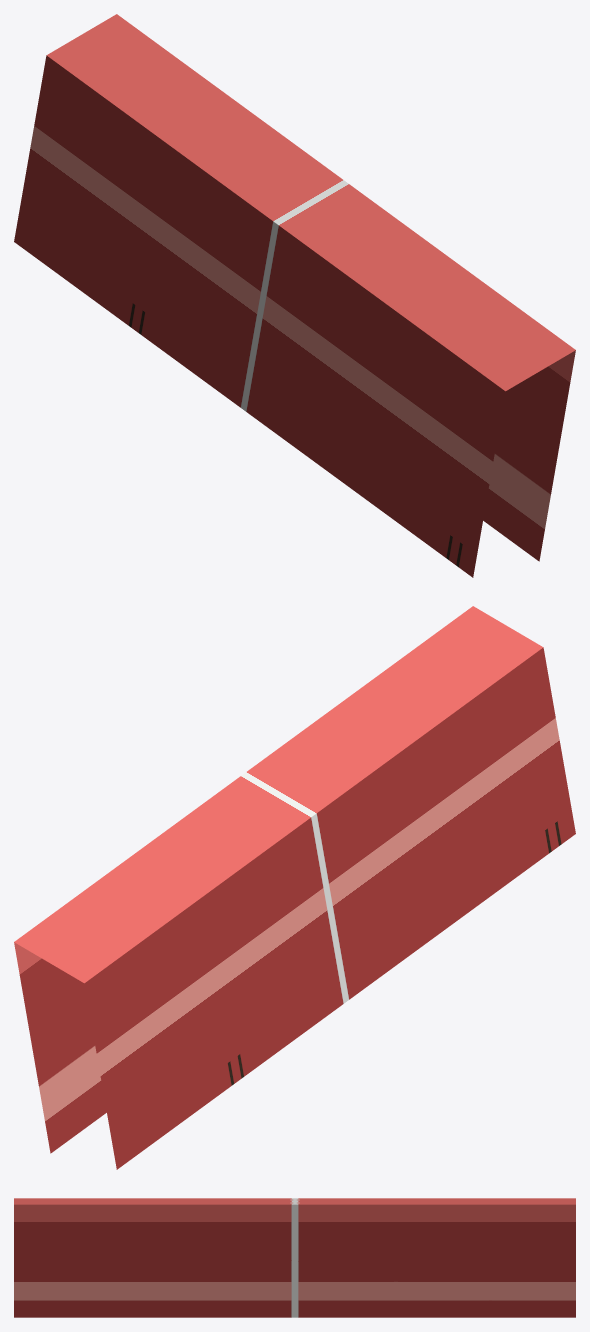
File: m_TrackWall_1.fbx
The picture shows the model from 3 angles, top to bottom: view 1: azimuth 30°, elevation 25°; view 2: azimuth 150°, elevation 25°; view 3: azimuth 270°, elevation 25°; orthographic projection. The views are drawn at different scales.
Visible parts, largest first — view 1: m_TrackWall_1; view 2: m_TrackWall_1; view 3: m_TrackWall_1.
Boxes of the visible parts, left/top/right/bottom form: m_TrackWall_1: left=14, top=14, right=575, bottom=577; m_TrackWall_1: left=14, top=606, right=575, bottom=1169; m_TrackWall_1: left=14, top=1198, right=575, bottom=1317.
Size of the model in its own units: 155 by 292 by 1200.
